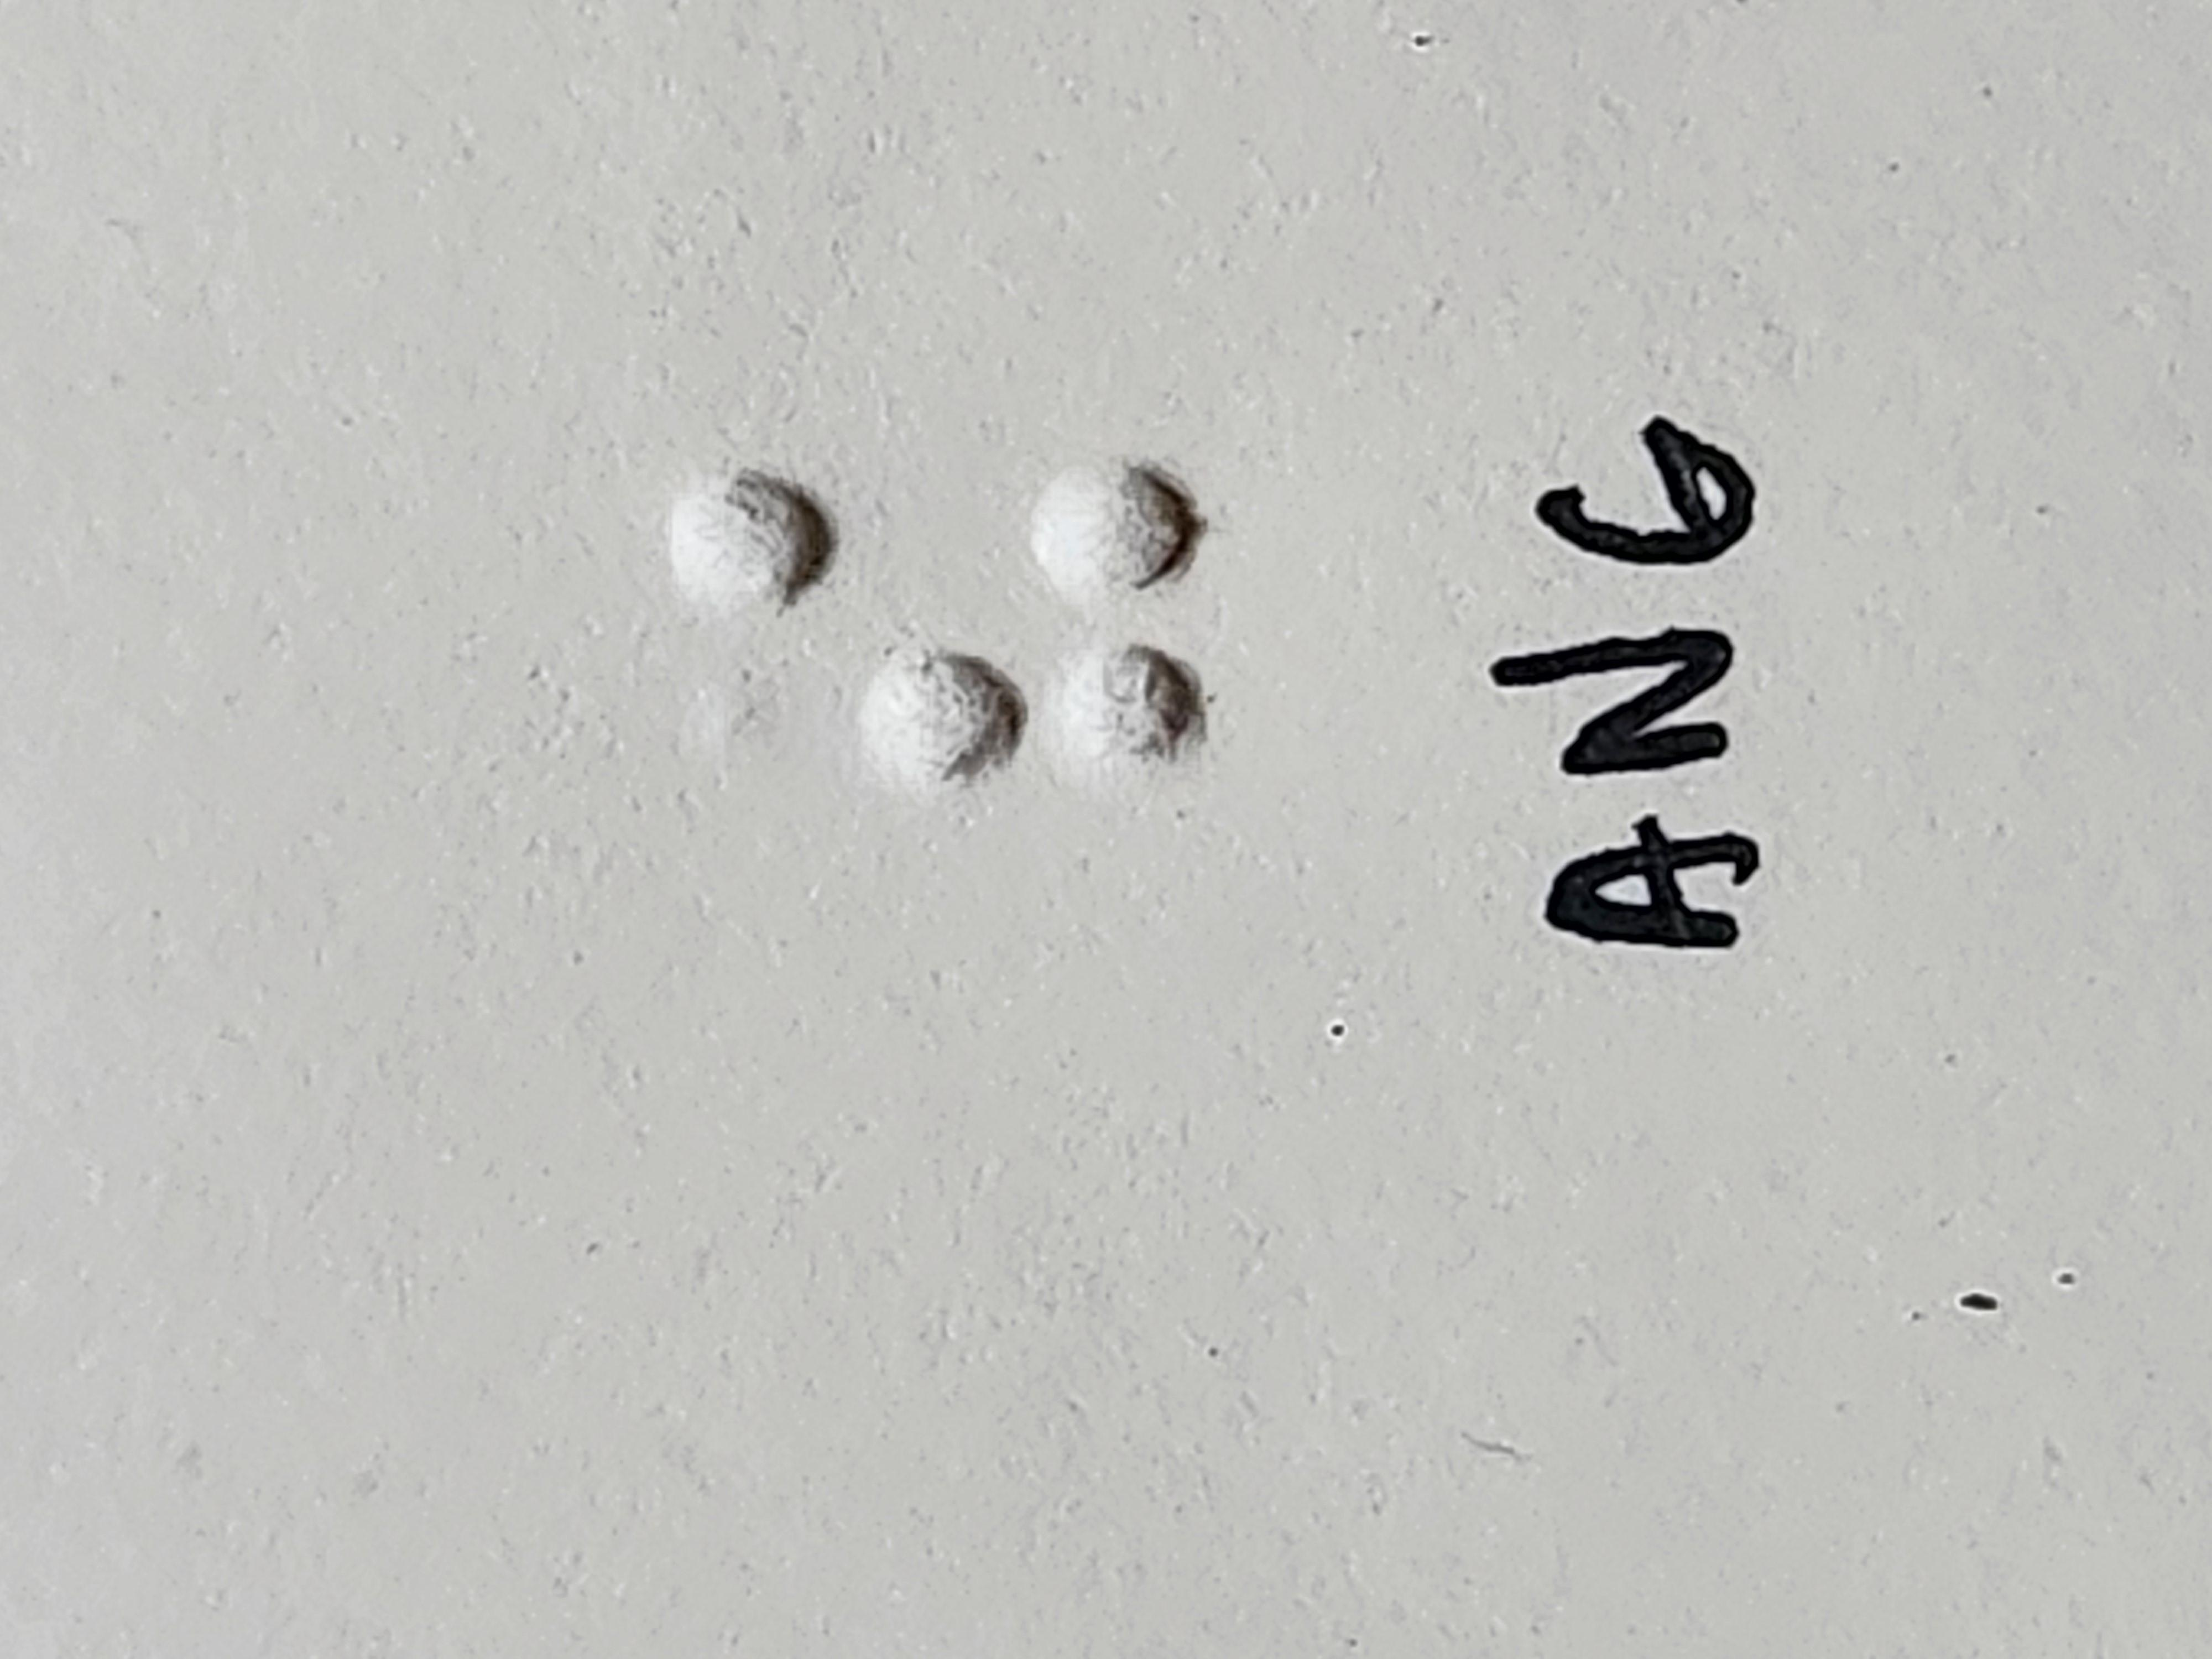one_cell_part_word_ang: (1151, 491, 1587, 904)
